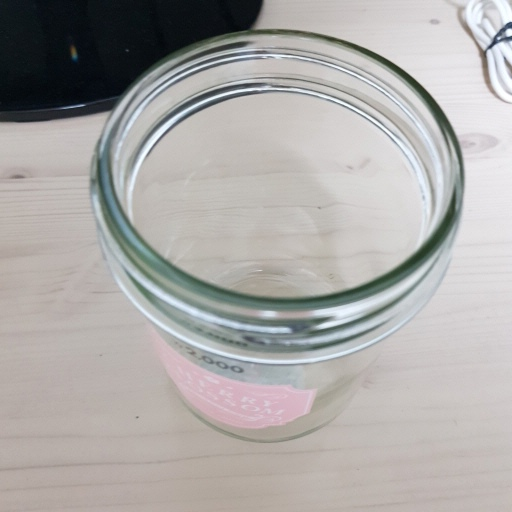Glass_5: (94, 33, 459, 442)
